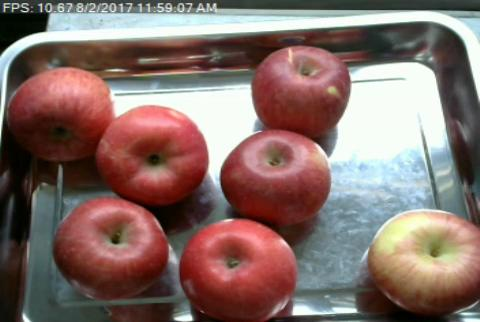apple: (53, 198, 170, 299), (179, 217, 295, 317), (369, 209, 479, 314), (97, 104, 207, 205), (219, 130, 332, 224), (7, 66, 110, 159), (252, 45, 351, 134)
